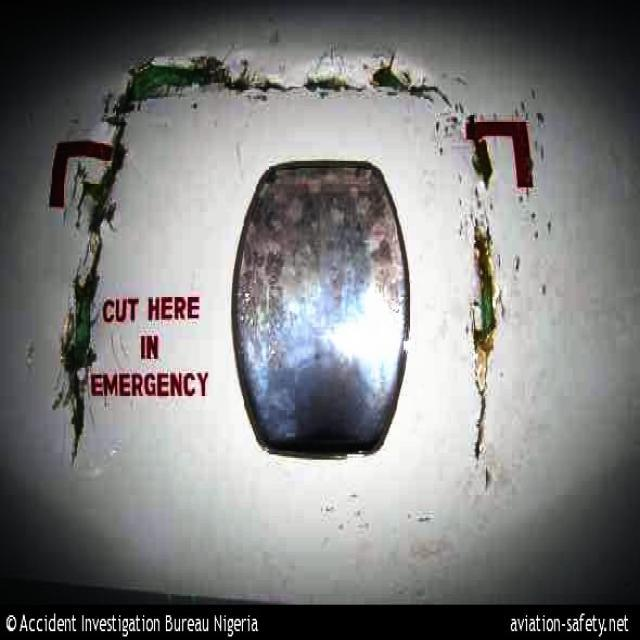crack: (54, 54, 504, 477)
